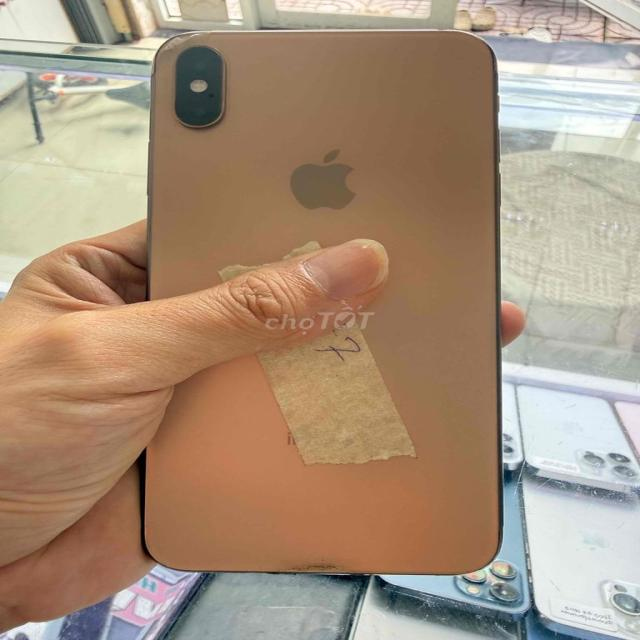scratch: (269, 558, 358, 579)
